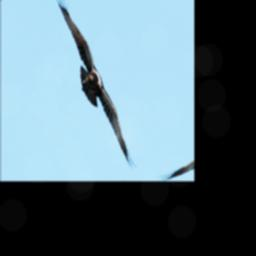Crow: (11, 0, 184, 173)
